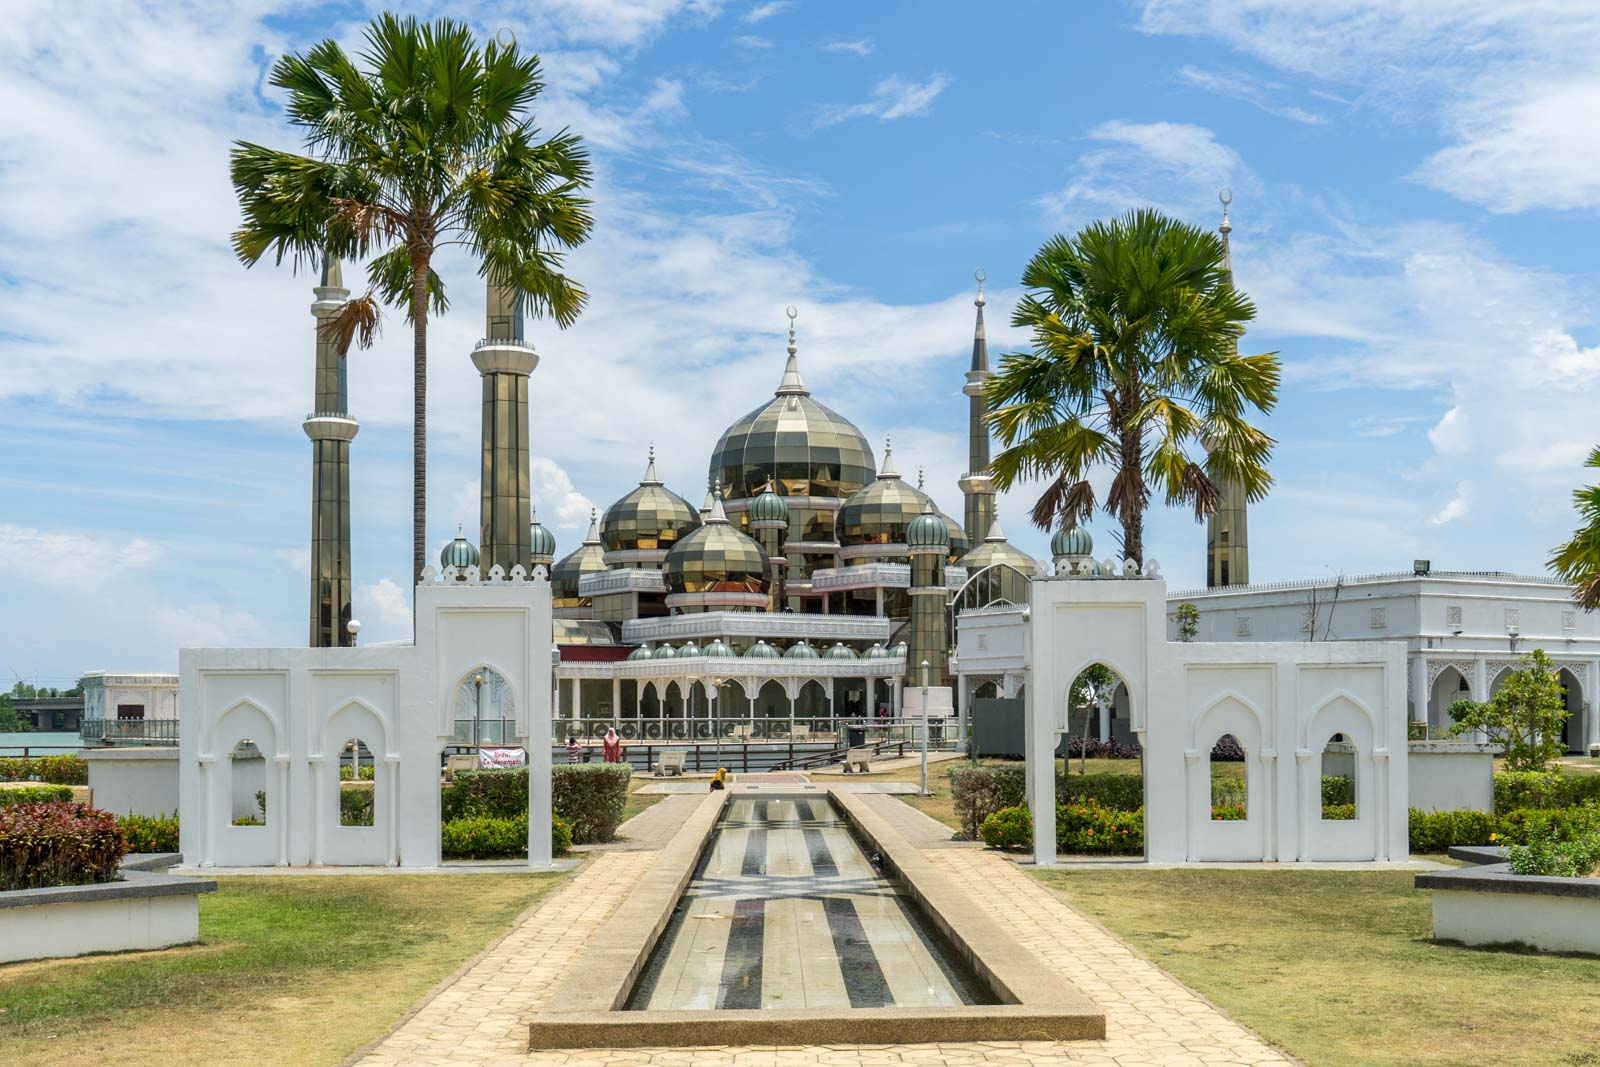Mosque: (282, 212, 1056, 772)
